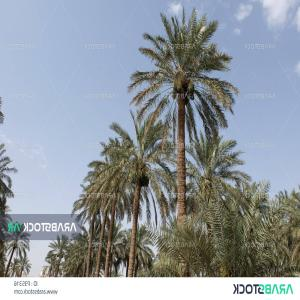palm tree: (126, 6, 241, 276), (90, 108, 177, 277), (2, 222, 31, 277), (46, 233, 70, 277)
